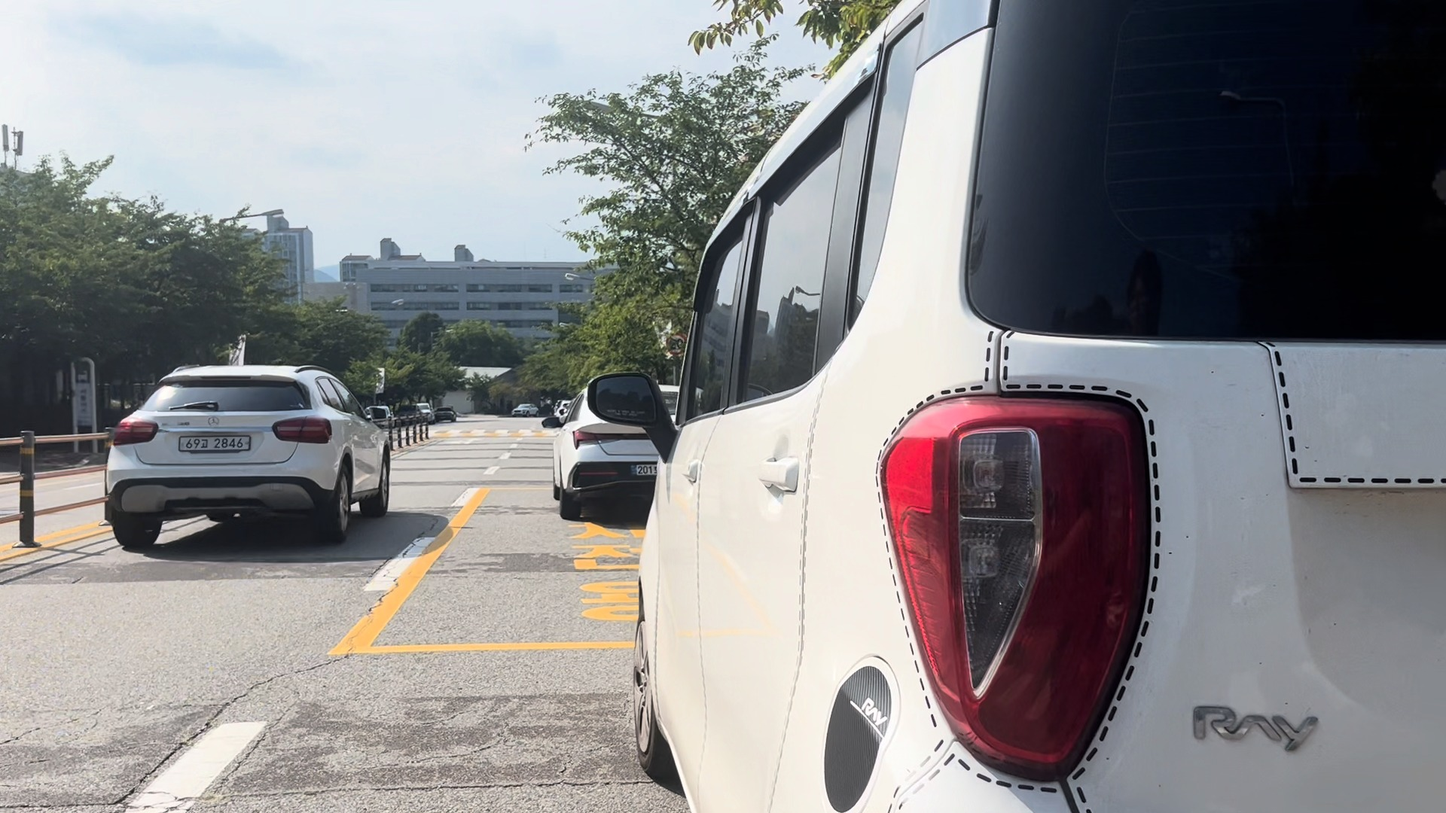door_handle: (758, 458, 798, 492)
fuel_cap: (820, 668, 890, 812)
side_mirror: (586, 373, 676, 460)
tail_light: (881, 397, 1148, 779), (273, 416, 331, 443), (111, 417, 158, 445), (572, 430, 645, 448)
